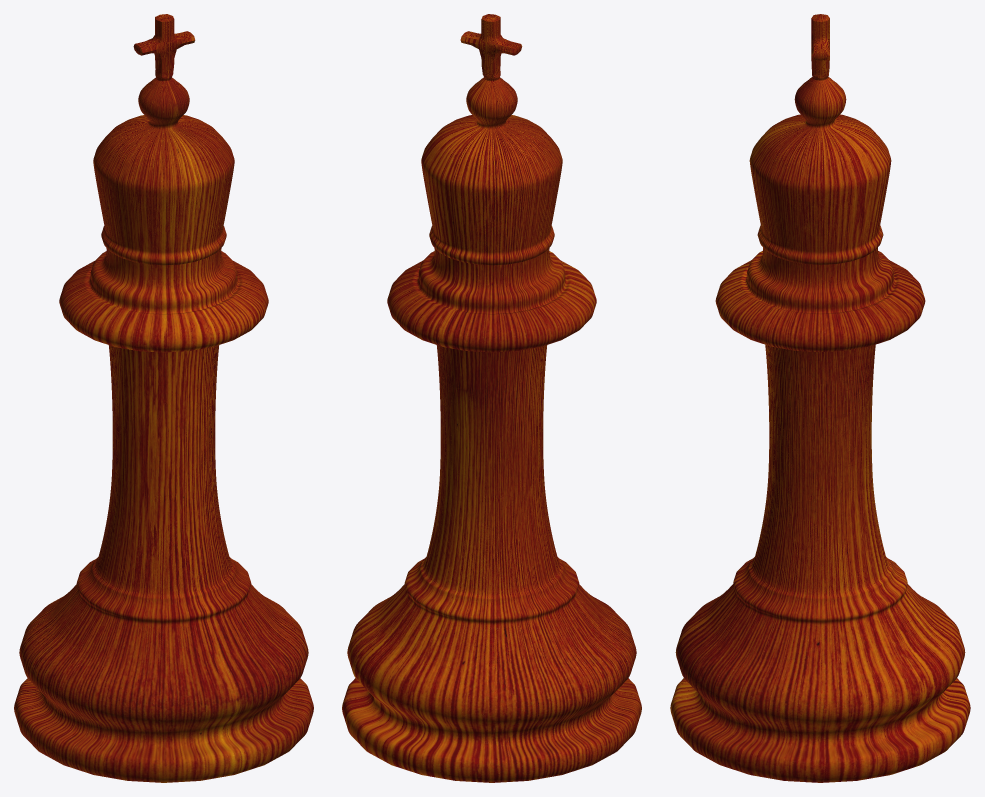
File: king.gltf
3 views of the same model, side by side, from view 1: azimuth 30°, elevation 25°; view 2: azimuth 150°, elevation 25°; view 3: azimuth 270°, elevation 25° (orthographic).
Visible parts, largest first — view 1: mesh01; view 2: mesh01; view 3: mesh01.
Boxes of the visible parts, x1,y1,x2,y2 form: mesh01: (14, 14, 313, 782); mesh01: (342, 14, 641, 782); mesh01: (670, 14, 970, 782).
Bounding box in the file's own units: 14.66 × 38.26 × 14.66.
Materials: 1 (1 with a texture image).
